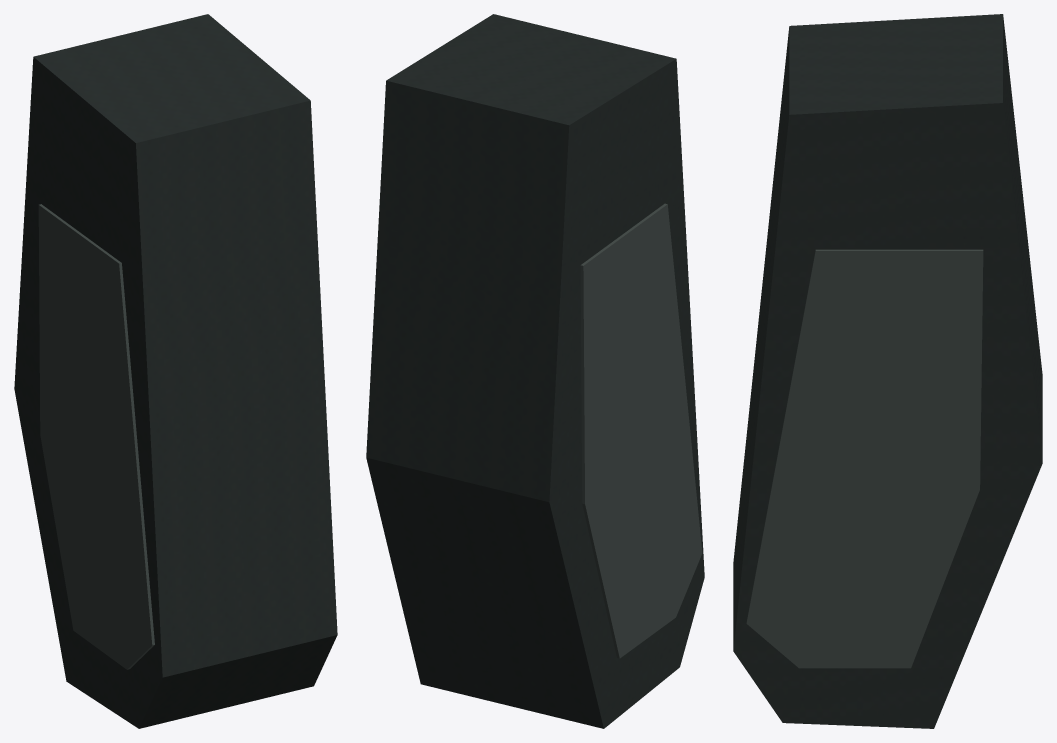
Rendered from ak_grip.glb.
3 views of the same model, side by side, from view 1: azimuth 30°, elevation 25°; view 2: azimuth 150°, elevation 25°; view 3: azimuth 270°, elevation 25° (orthographic). The views are drawn at different scales.
Parts seen in each view (by area): view 1: ak_grip_contoured_grip, ak_grip_contoured_grip.001, ak_grip_grip_panel; view 2: ak_grip_contoured_grip, ak_grip_contoured_grip.001, ak_grip_grip_panel; view 3: ak_grip_contoured_grip.001, ak_grip_grip_panel, ak_grip_contoured_grip.
Boxes of the visible parts, x1,y1,x2,y2 form: ak_grip_contoured_grip: [15, 22, 331, 723]; ak_grip_contoured_grip.001: [14, 14, 337, 728]; ak_grip_grip_panel: [38, 204, 154, 669]; ak_grip_contoured_grip: [372, 17, 701, 719]; ak_grip_contoured_grip.001: [366, 14, 704, 728]; ak_grip_grip_panel: [580, 203, 702, 658]; ak_grip_contoured_grip.001: [733, 14, 1042, 728]; ak_grip_grip_panel: [746, 249, 983, 668]; ak_grip_contoured_grip: [734, 18, 1042, 721].
Size of the model in its own units: 0.067 by 0.21 by 0.094.
Materials: 2 (1 with a texture image).
